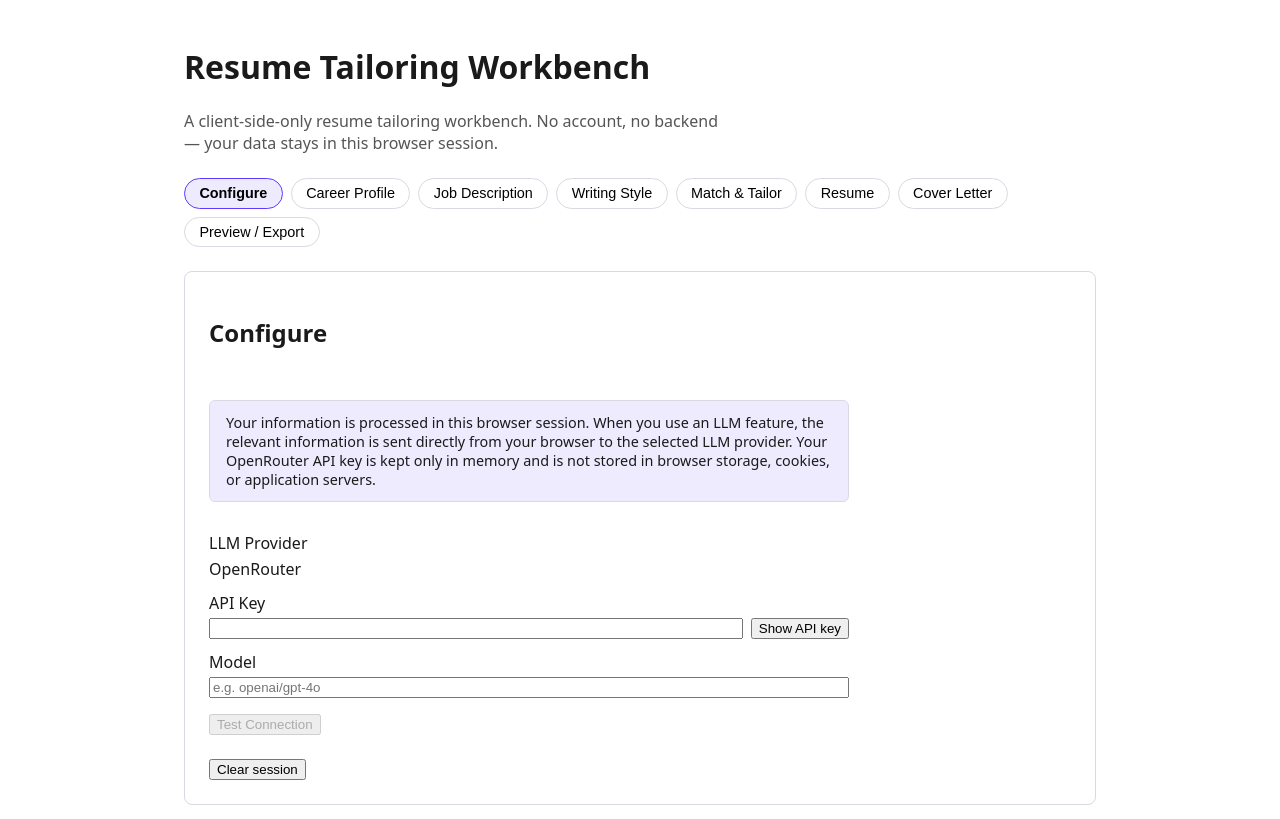
it: Writing Style workflow (Stage 7) › preserves raw text after switching to structured and back to raw
Click the button "Writing Style": {"x": 612, "y": 193} left=556, top=178, right=668, bottom=209
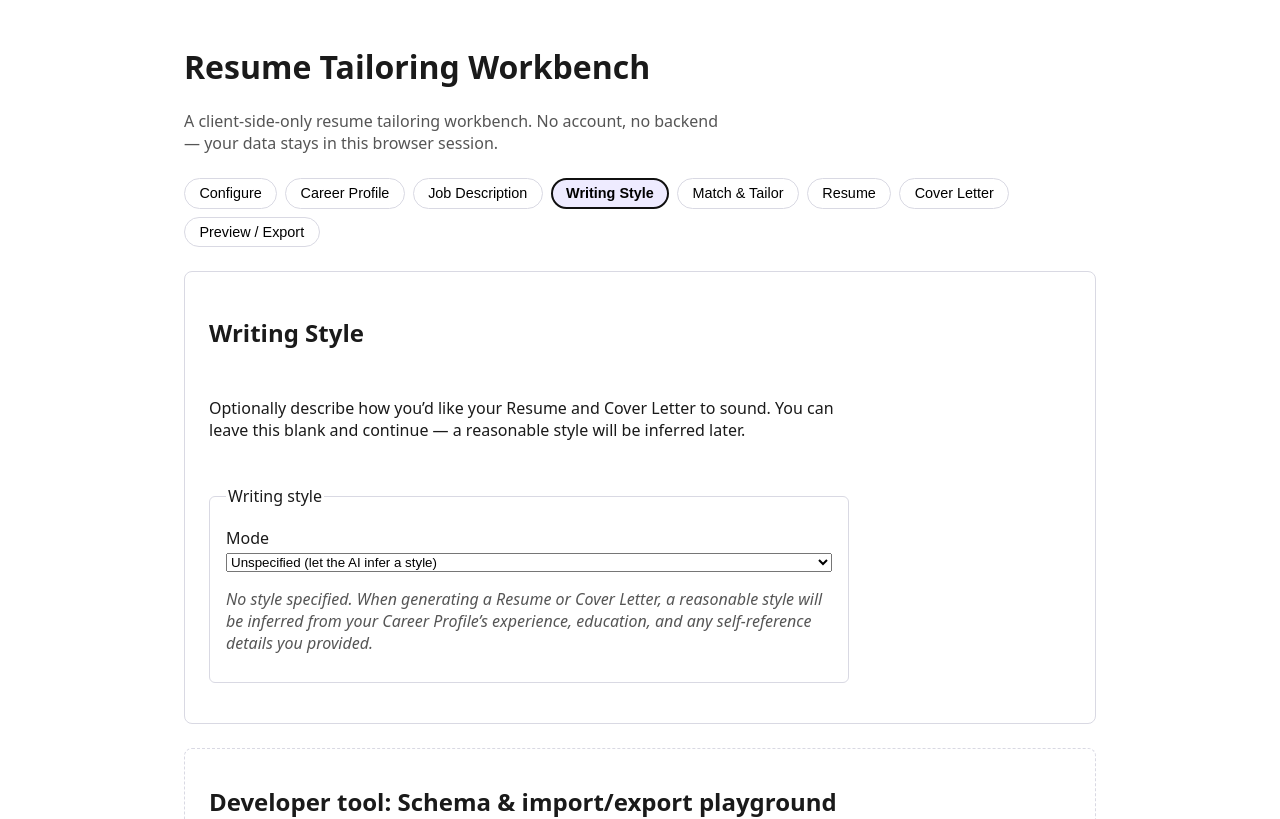
Select "Raw text" in the dropdown labelled "Mode": {"x": 529, "y": 563} left=226, top=553, right=832, bottom=572
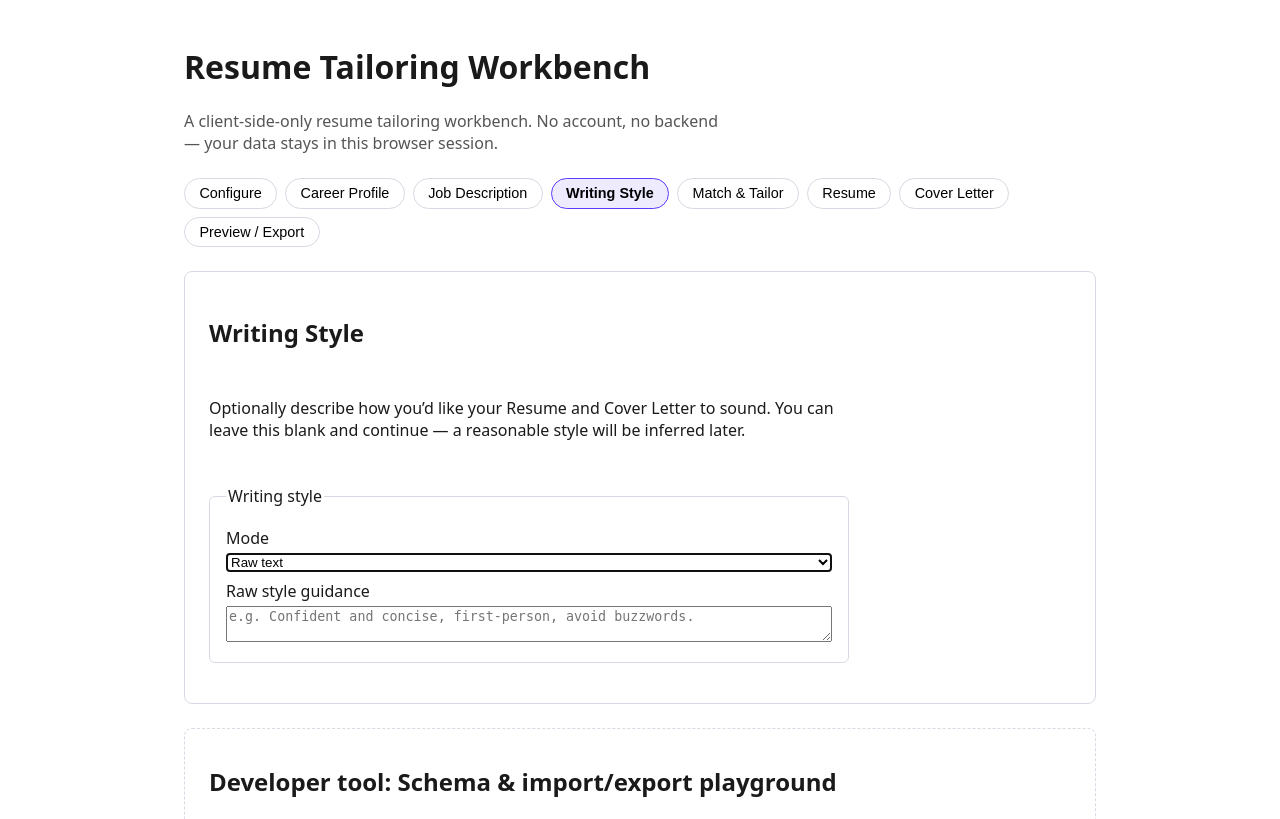
In the text box labelled "Raw style guidance": {"x": 529, "y": 624} left=226, top=606, right=832, bottom=642, type "Warm and encouraging."
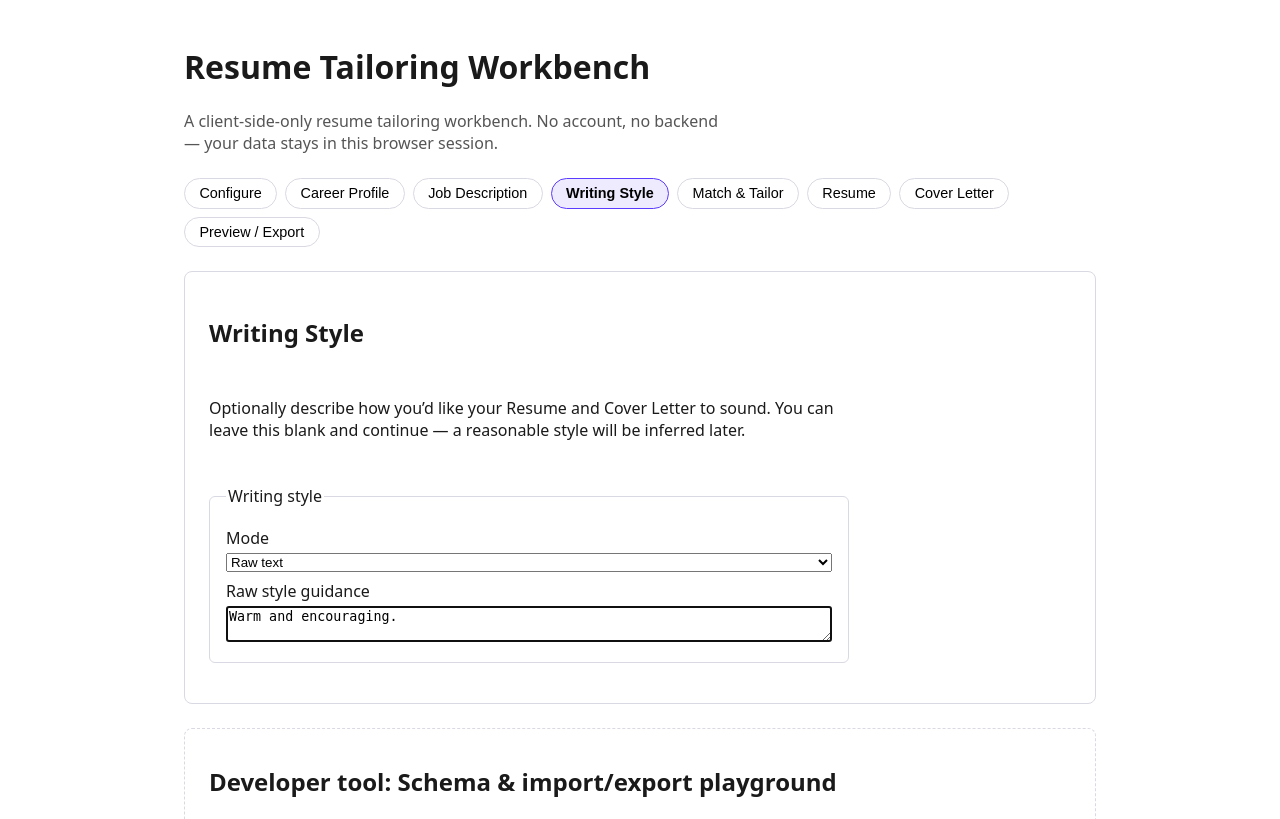
Select "Structured" in the dropdown labelled "Mode": {"x": 529, "y": 563} left=226, top=553, right=832, bottom=572
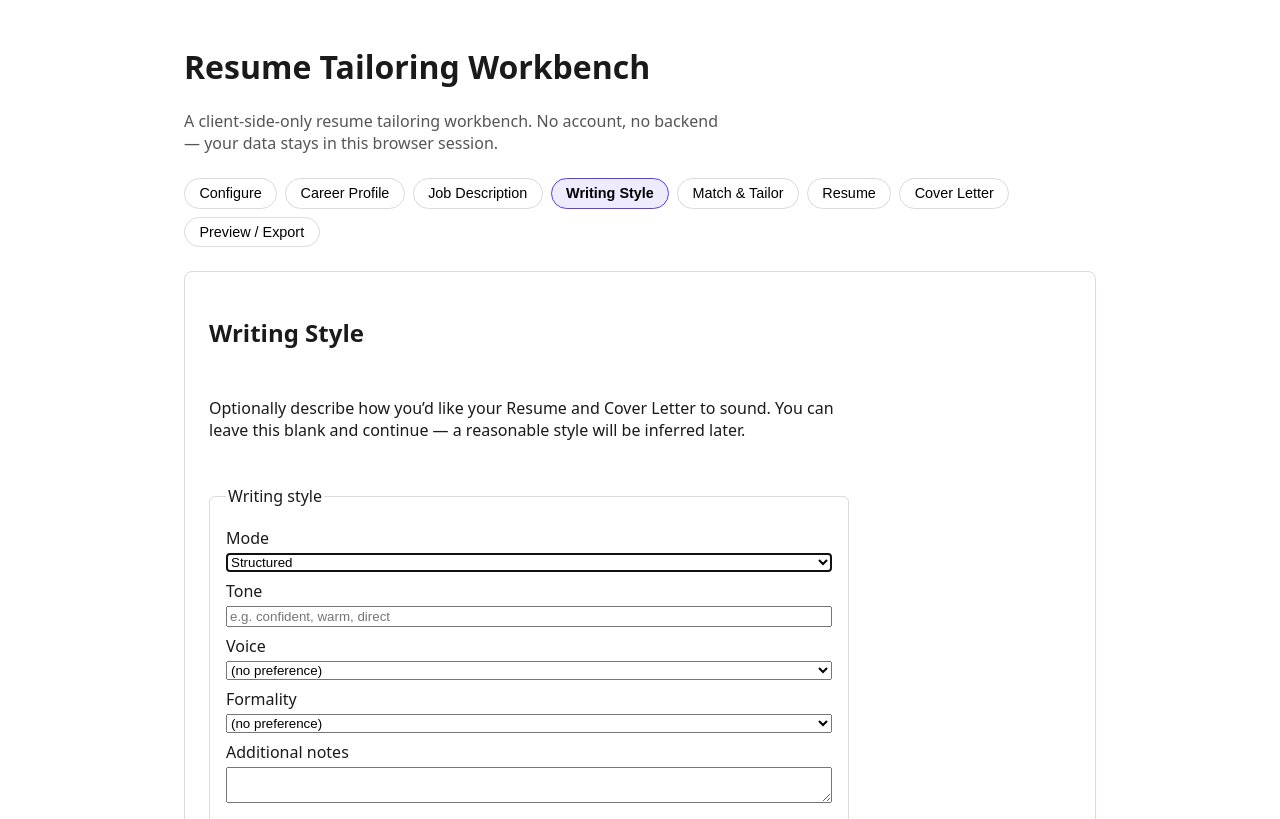
Result: the field labelled "Tone" is empty at left=226, top=606, right=832, bottom=627
Select "Raw text" in the dropdown labelled "Mode": {"x": 529, "y": 563} left=226, top=553, right=832, bottom=572
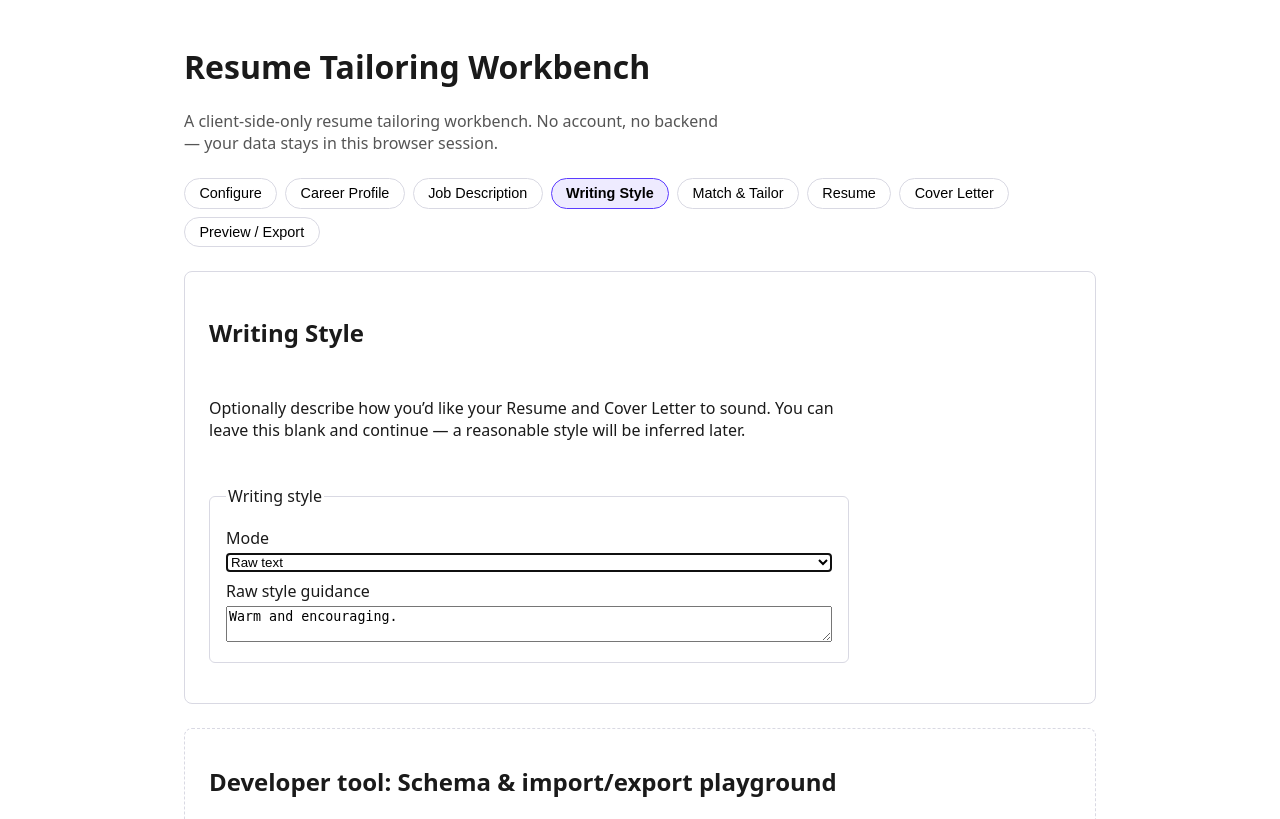
Result: the text box labelled "Raw style guidance" holds "Warm and encouraging." at left=226, top=606, right=832, bottom=642
